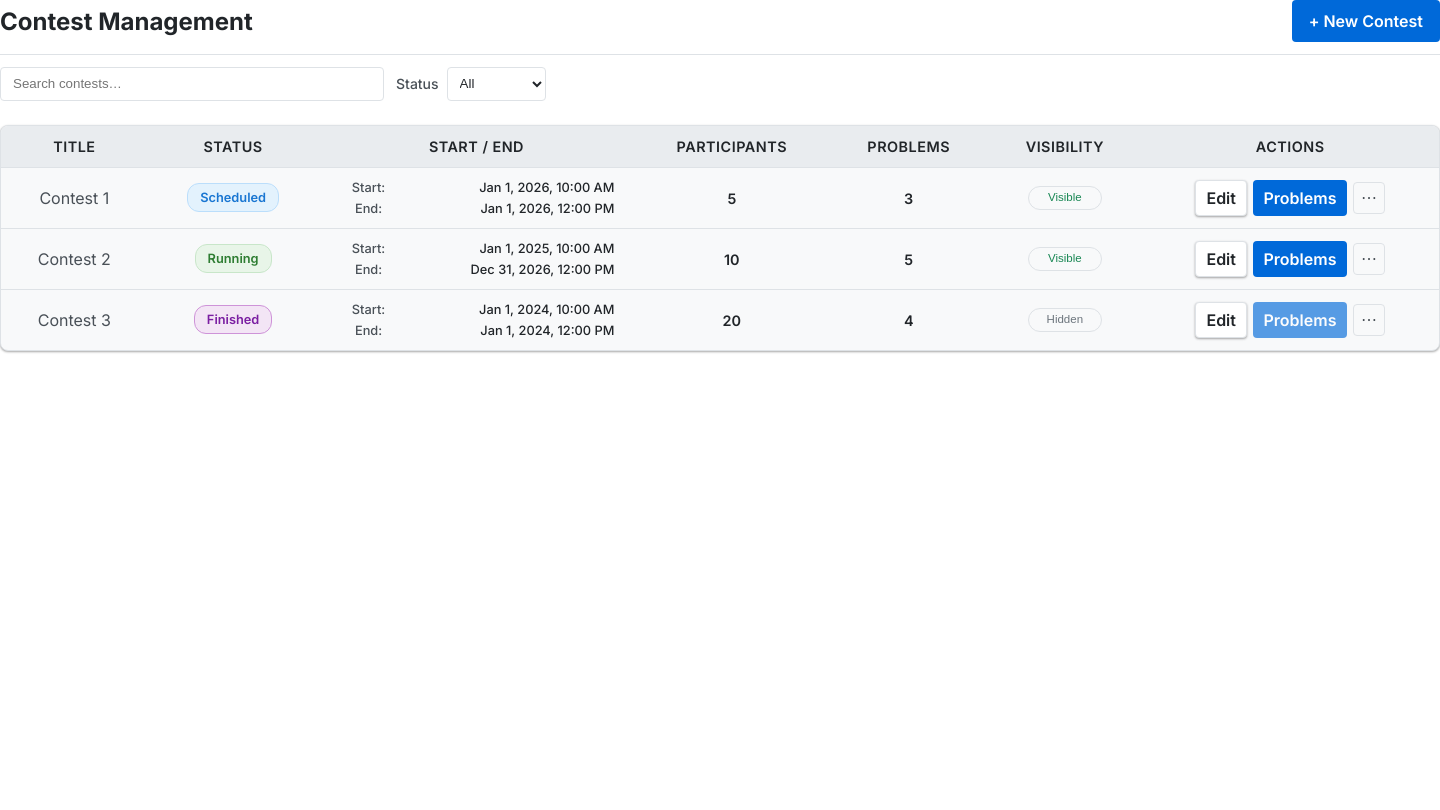
Test case: ContestManagement Component › opens ContestModal for editing existing contest
Expected: the text "Contest 1" is shown, [1,167,148,228]
Click the button "Edit" in the row of "Contest 1" at (1221, 198), box [1195,180,1247,216]
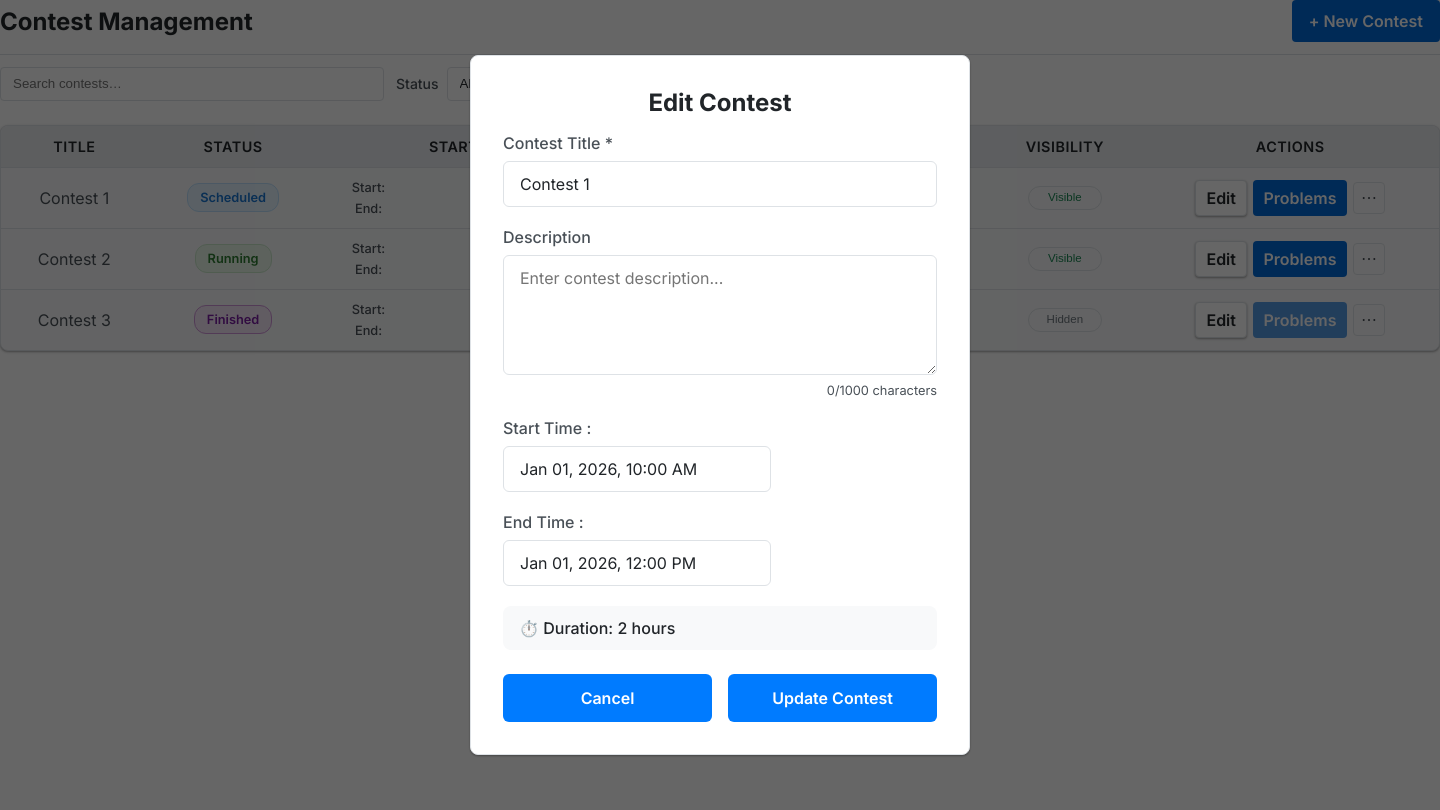
Expected: the heading "Edit Contest" is shown, [648,88,792,117]
